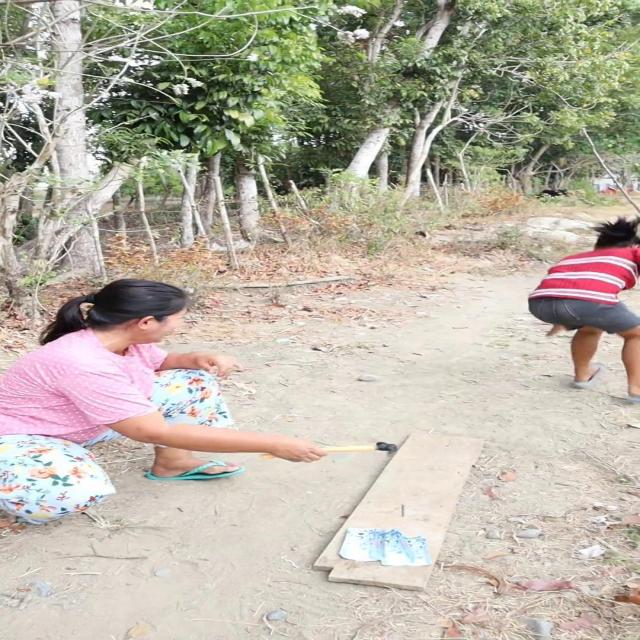hammer: (314, 442, 397, 456)
